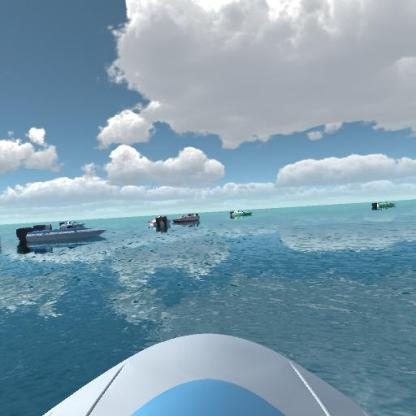usv0: (369, 197, 398, 214), (228, 205, 253, 221)
usv1: (15, 220, 105, 254), (60, 218, 88, 231)
usv3: (172, 206, 200, 226), (144, 213, 172, 233)
